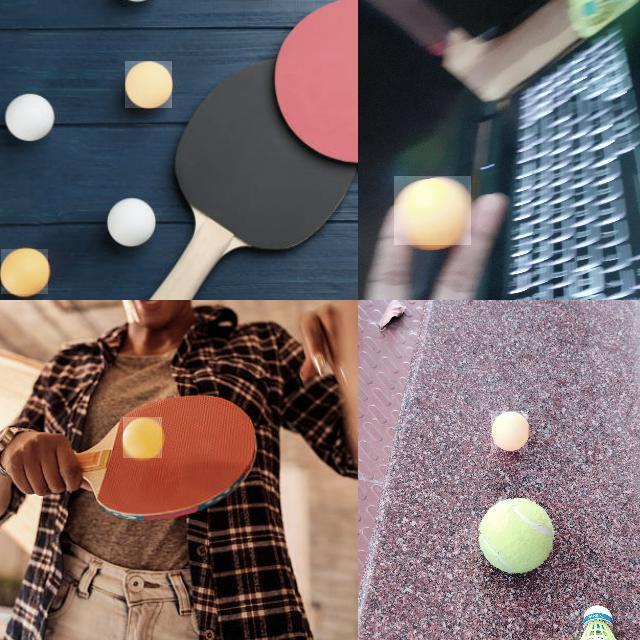ping-pong-ball: (394, 176, 472, 246), (125, 61, 173, 109), (1, 248, 49, 296), (123, 417, 163, 459), (491, 411, 529, 453)
